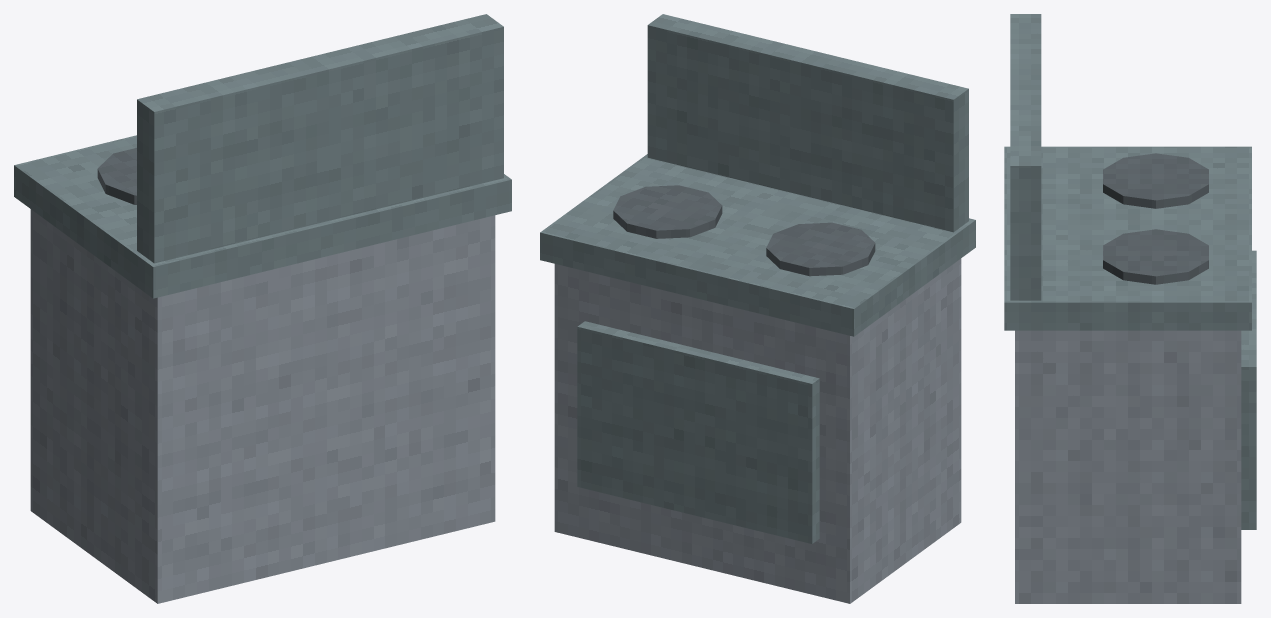
File: level_blockout_ship_galley_range.glb
3 views of the same model, side by side, from view 1: azimuth 30°, elevation 25°; view 2: azimuth 150°, elevation 25°; view 3: azimuth 270°, elevation 25° (orthographic). The views are drawn at different scales.
Visible parts, largest first — view 1: level_blockout_ship_galley_range; view 2: level_blockout_ship_galley_range; view 3: level_blockout_ship_galley_range.
Part boxes in pixels (<box>): level_blockout_ship_galley_range: <box>14,14,511,603</box>; level_blockout_ship_galley_range: <box>540,14,975,603</box>; level_blockout_ship_galley_range: <box>1004,14,1256,603</box>.
Bounding box in the file's own units: 1.19 × 1.57 × 0.815.
3 materials, 3 textured.
